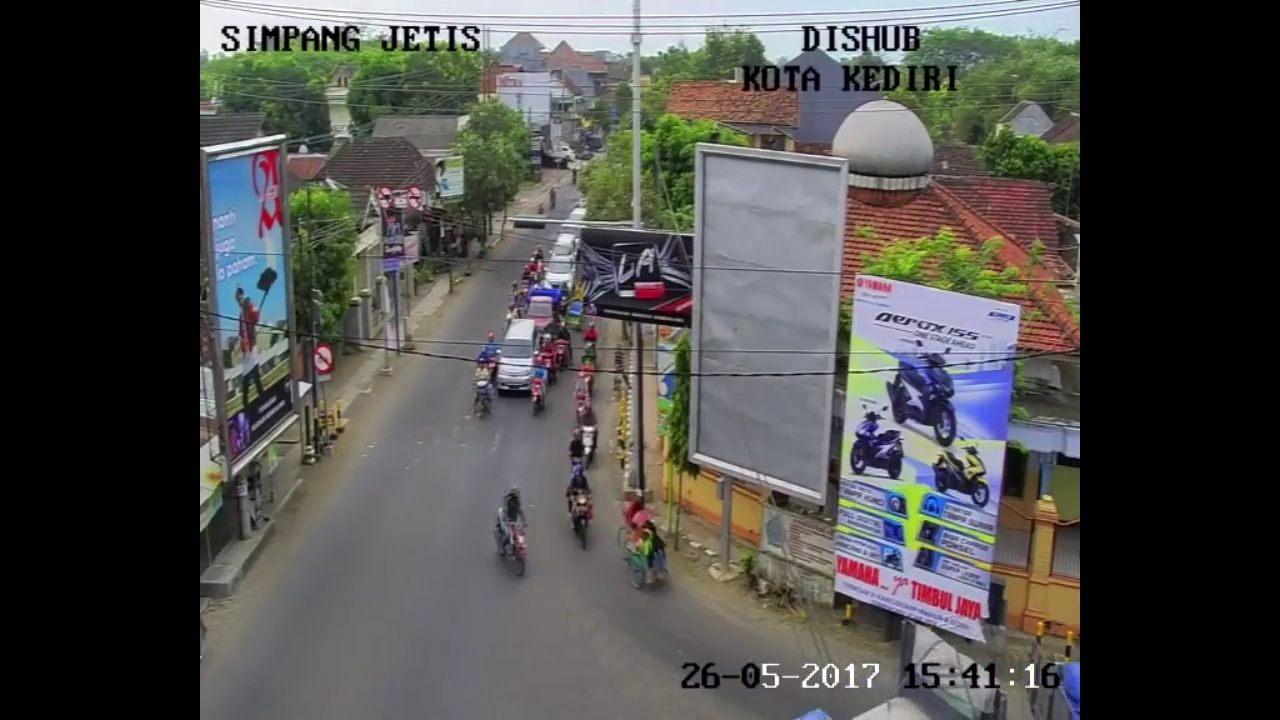car: (500, 320, 538, 397), (546, 254, 575, 301), (527, 295, 556, 340), (552, 235, 577, 265)
motorbike: (494, 485, 529, 577), (567, 468, 594, 548), (577, 405, 597, 467), (530, 357, 548, 418), (475, 360, 493, 417), (553, 323, 571, 374), (569, 430, 585, 480), (575, 373, 592, 419), (482, 331, 496, 385), (582, 327, 598, 372)
